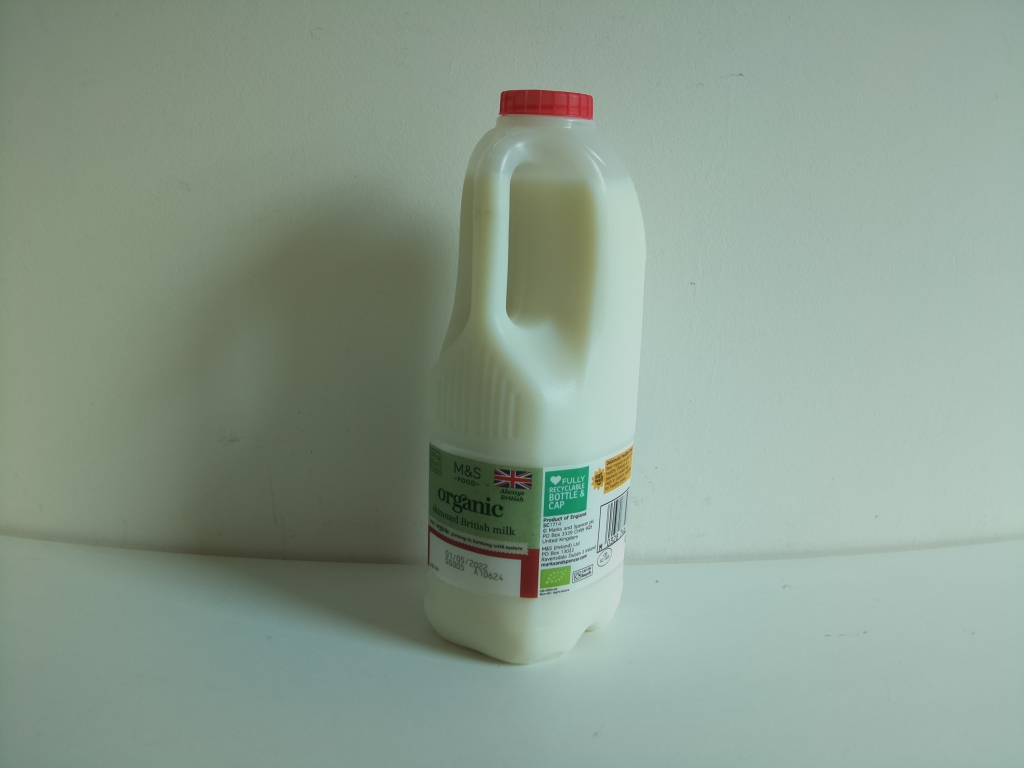milk: (415, 82, 652, 668)
